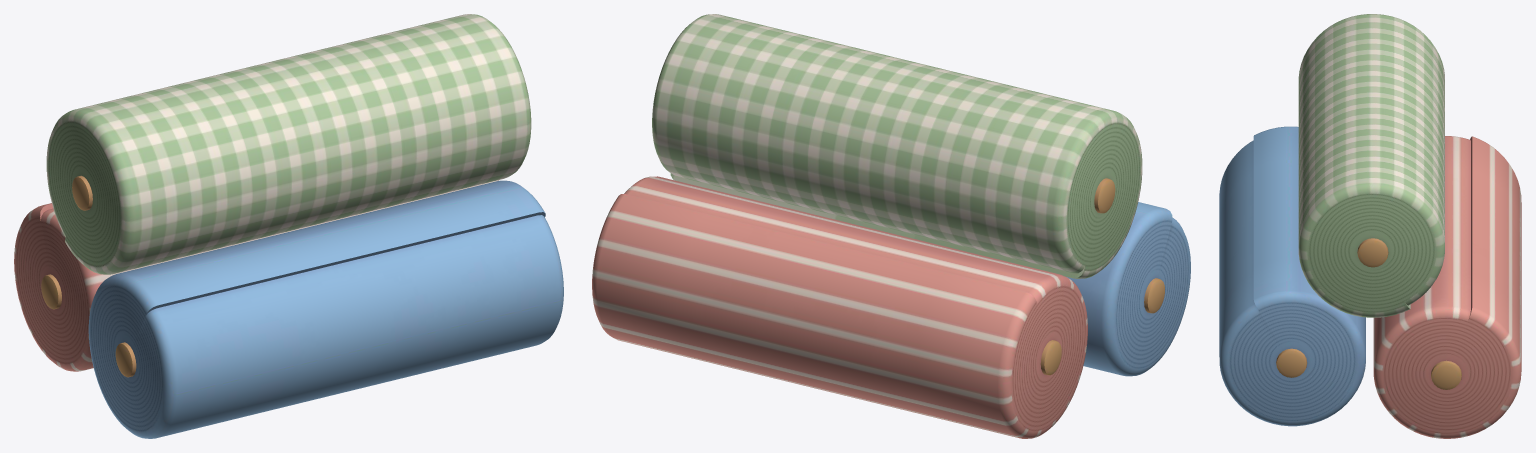
Rendered from fabric-bolt.glb.
3 renders of one model, left to right at view 1: azimuth 30°, elevation 25°; view 2: azimuth 150°, elevation 25°; view 3: azimuth 270°, elevation 25°, orthographic. The views are drawn at different scales.
Parts seen in each view (by area): view 1: fabric-bolt_body; view 2: fabric-bolt_body; view 3: fabric-bolt_body.
Part boxes in pixels (<box>): fabric-bolt_body: <box>14,14,563,438</box>; fabric-bolt_body: <box>592,14,1190,438</box>; fabric-bolt_body: <box>1219,14,1521,438</box>.
Bounding box in the file's own units: 0.4545 × 0.2825 × 0.3103.
Materials: 1 (1 with a texture image).
